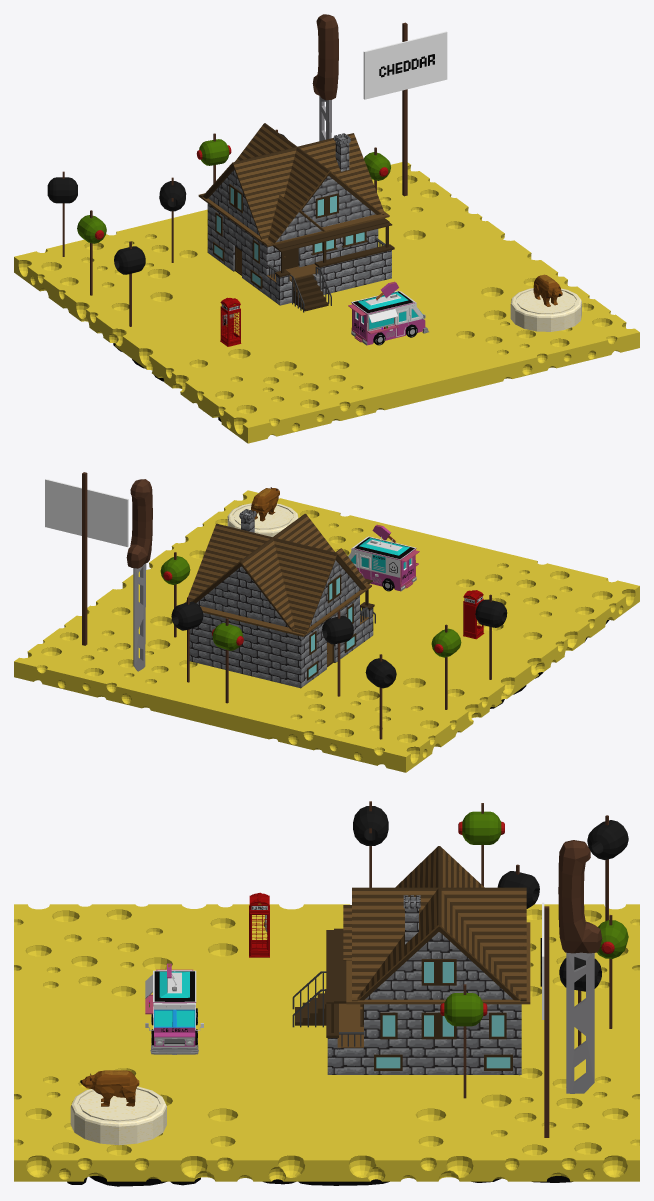
The picture shows the model from 3 angles, top to bottom: view 1: azimuth 30°, elevation 25°; view 2: azimuth 150°, elevation 25°; view 3: azimuth 270°, elevation 25°; orthographic projection. The views are drawn at different scales.
Visible parts, largest first — view 1: Cube.022, Cube.586, Cube.023, VEHICLES_ICE_CREAM_TRUCK, Cylinder.016, Cube.024, OBJRANDOM_PHONEBOOTH, Sphere.017, Sphere.016, Sphere.020, Sphere.018, Sphere.022 (+2 smaller); view 2: Cube.022, Cube.586, Cube.023, Cube.024, VEHICLES_ICE_CREAM_TRUCK, Cylinder.016, Sphere.020, Sphere.016, Sphere.022, Sphere.017, Sphere.021, Sphere.018 (+3 smaller); view 3: Cube.022, Cube.586, Cube.024, Cylinder.016, VEHICLES_ICE_CREAM_TRUCK, Cube.023, Sphere.019, Sphere.016, Sphere.018, ANIMAL_OSO, Curve.014, Sphere.017 (+4 smaller).
Part boxes in pixels (box(x1,y1,x2,y2)): Cube.022: box(14, 162, 639, 443); Cube.586: box(198, 123, 394, 312); Cube.023: box(363, 22, 447, 196); VEHICLES_ICE_CREAM_TRUCK: box(348, 281, 428, 345); Cylinder.016: box(510, 288, 581, 331); Cube.024: box(312, 14, 338, 141); OBJRANDOM_PHONEBOOTH: box(220, 297, 241, 346); Sphere.017: box(114, 241, 145, 326); Sphere.016: box(47, 171, 77, 256); Sphere.020: box(159, 177, 186, 262); Sphere.018: box(77, 210, 106, 295); Sphere.022: box(196, 133, 231, 183); Cube.022: box(14, 490, 639, 772); Cube.586: box(184, 509, 375, 688); Cube.023: box(45, 472, 128, 645); Cube.024: box(126, 479, 152, 671); VEHICLES_ICE_CREAM_TRUCK: box(348, 524, 419, 591); Cylinder.016: box(227, 503, 298, 536); Sphere.020: box(322, 611, 353, 696); Sphere.016: box(365, 654, 396, 739); Sphere.022: box(212, 618, 243, 703); Sphere.017: box(475, 594, 507, 679); Sphere.021: box(171, 597, 203, 682); Sphere.018: box(431, 624, 461, 709); Cube.022: box(14, 904, 639, 1181); Cube.586: box(292, 846, 530, 1074); Cube.024: box(558, 840, 602, 1093); Cylinder.016: box(70, 1086, 166, 1145); VEHICLES_ICE_CREAM_TRUCK: box(145, 963, 203, 1054); Cube.023: box(540, 902, 549, 1137); Sphere.019: box(440, 984, 487, 1098); Sphere.016: box(587, 815, 628, 920); Sphere.018: box(458, 803, 504, 886); ANIMAL_OSO: box(80, 1070, 139, 1106); Curve.014: box(67, 1176, 572, 1186); Sphere.017: box(353, 801, 388, 887).
Size of the model in its own units: 3917 by 1980 by 4000.
46 materials, 4 textured.
